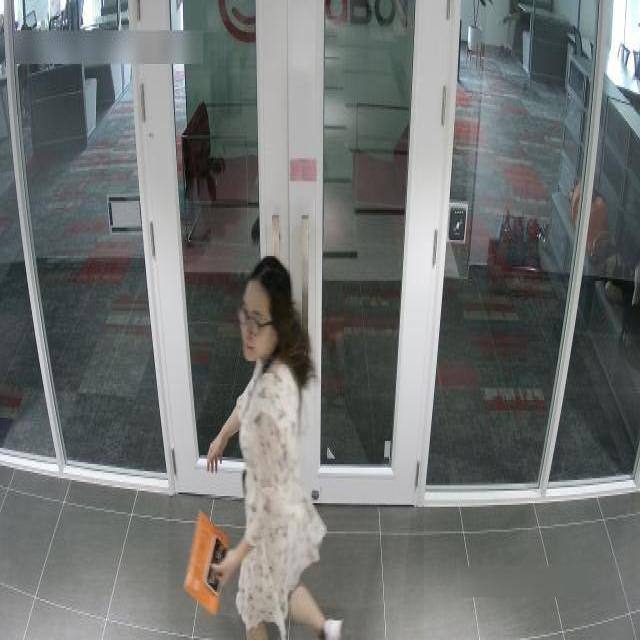bare_hand: (208, 537, 254, 590), (202, 421, 231, 480)
